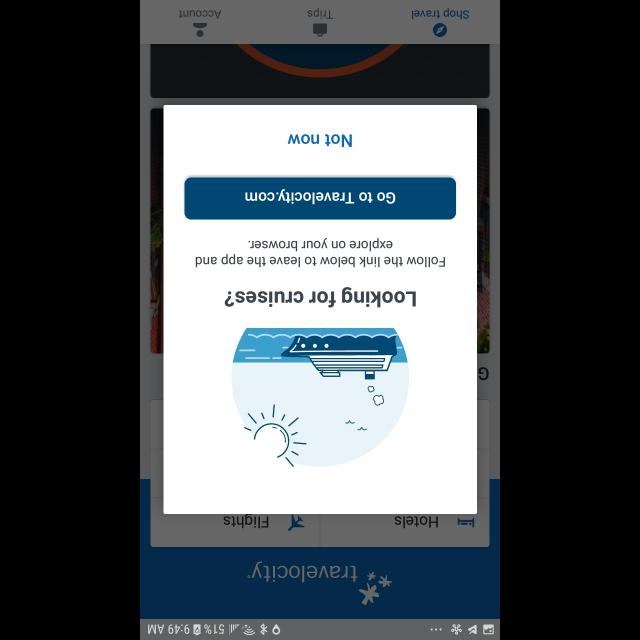image: (231, 328, 409, 467)
panel: (164, 104, 476, 514)
text: (195, 237, 445, 267), (224, 286, 416, 308), (288, 134, 352, 146)
textbutton: (184, 177, 456, 220)
uppertaskbar: (140, 618, 500, 640)
